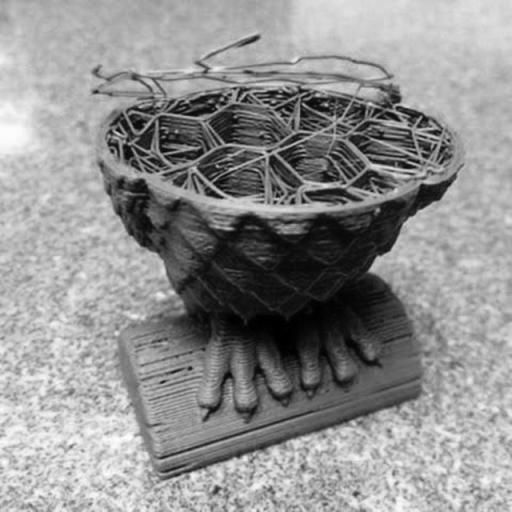spaghetti_and_stringing: (87, 30, 403, 120)
